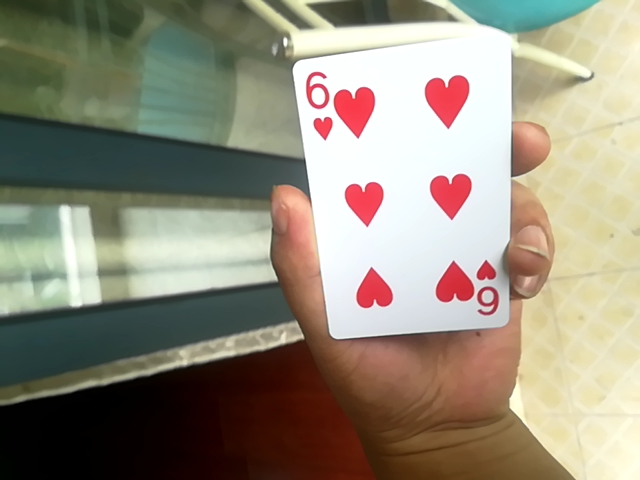hx 6: (292, 29, 520, 342)
